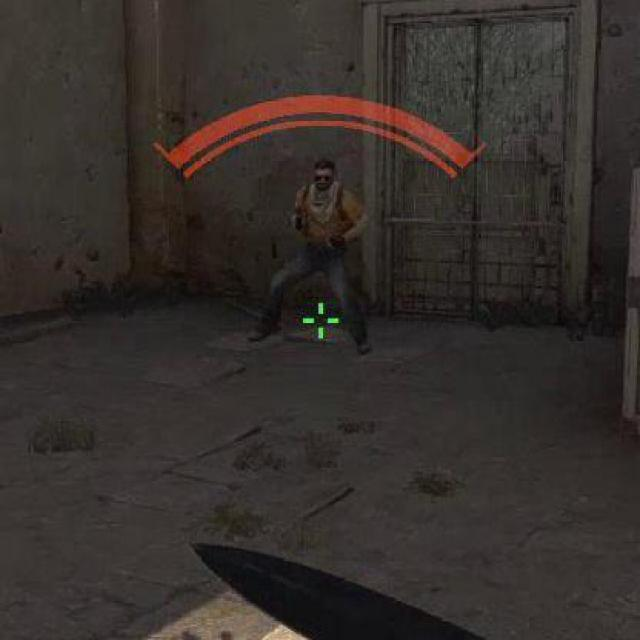Dead: (311, 156, 337, 190)
T-Body: (263, 156, 382, 352)
